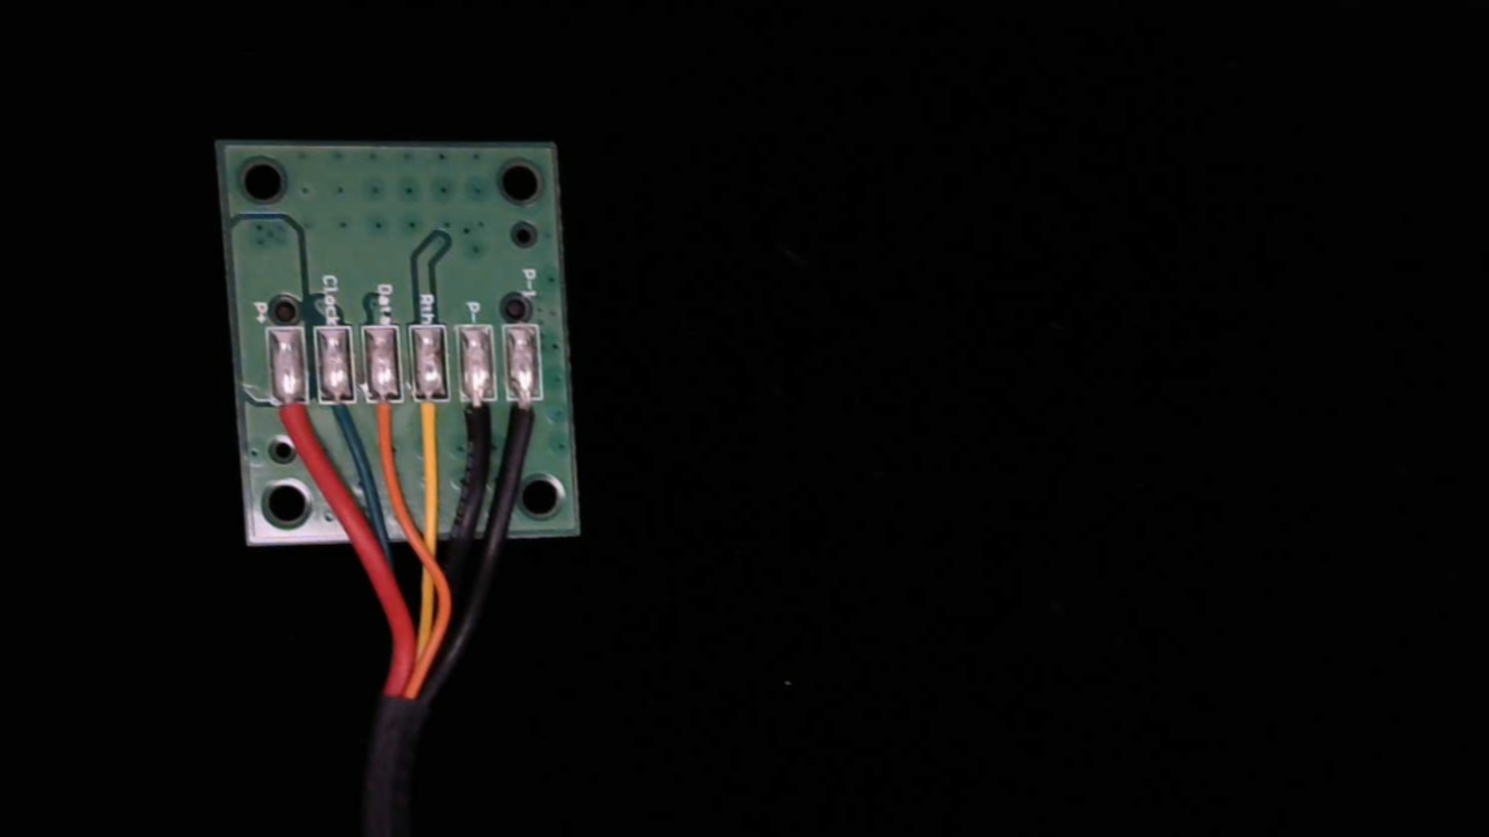Black: (457, 377, 501, 464)
Black1: (507, 376, 550, 455)
Green: (317, 378, 361, 460)
Orange: (365, 378, 406, 464)
Red: (268, 379, 313, 461)
Yellow: (411, 378, 455, 466)
